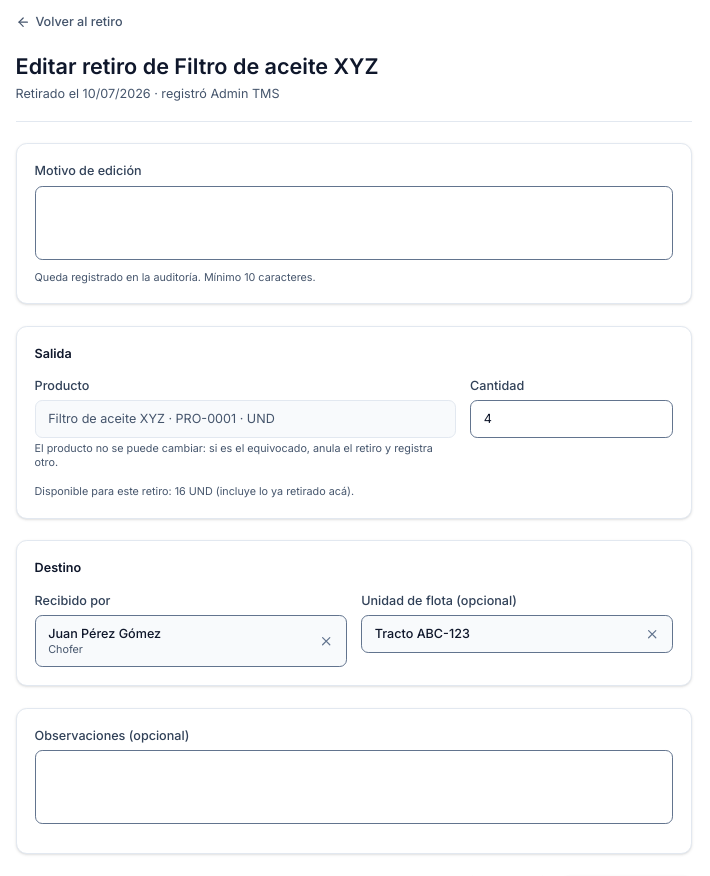
Scenario: WithdrawalEditPage › cambiar el receptor busca trabajadores desde 3 caracteres
The image size is (710, 876).
Click the button named "quitar selección" next to "Juan Pérez Gómez" at (326, 641), box 319,634 -> 333,648
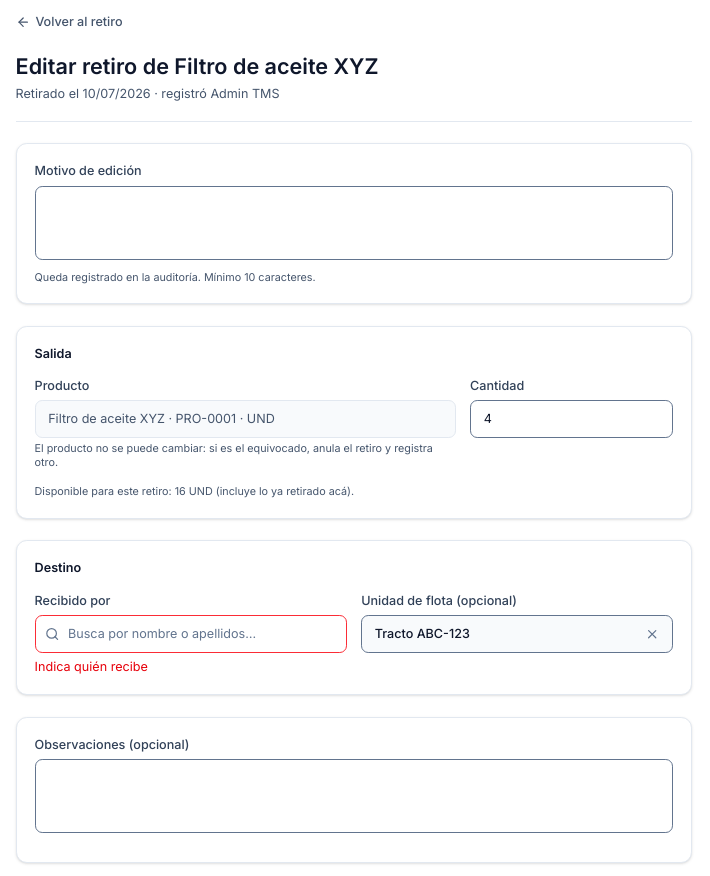
Type "ma" into the dropdown labelled "Recibido por" at (191, 634), box 35,615 -> 347,653
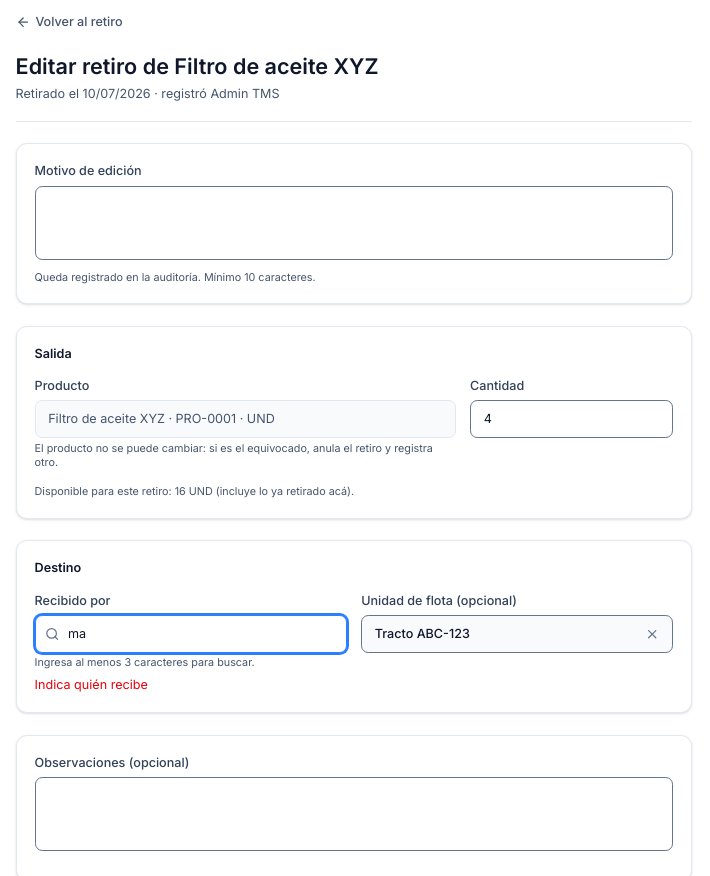
Now the text "Ingresa al menos 3 caracteres para buscar." is shown, box 35,656 -> 255,670
